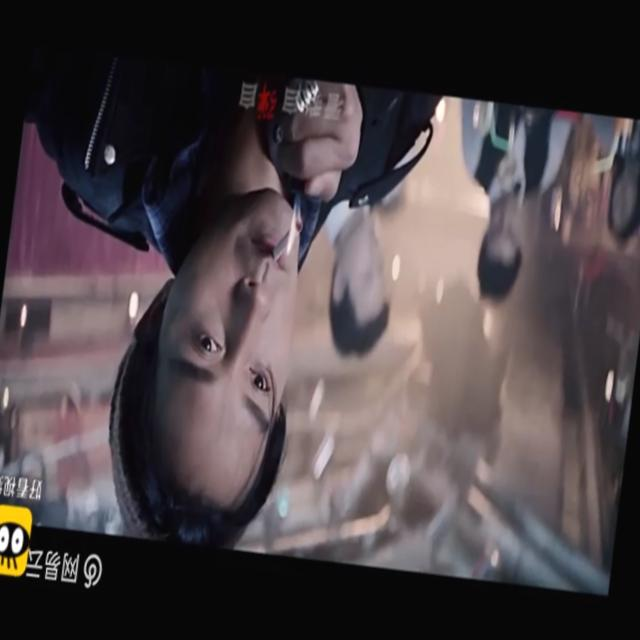cigarette: (267, 220, 302, 270)
